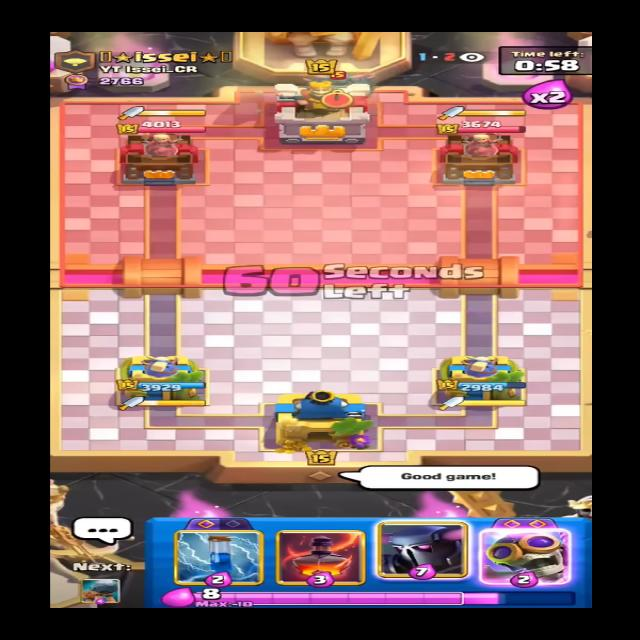pekka: (297, 66, 381, 95)
